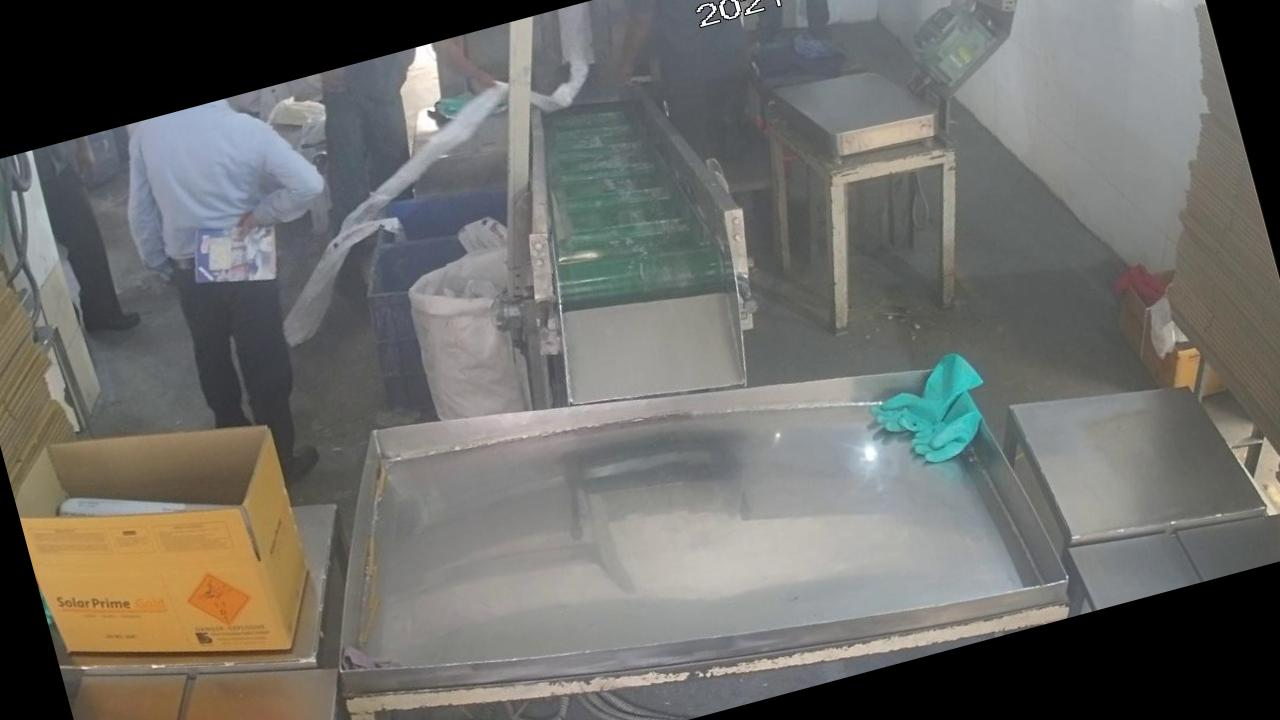Gloves: (842, 322, 1026, 491)
No-gloves: (214, 105, 344, 254), (586, 0, 698, 106)
